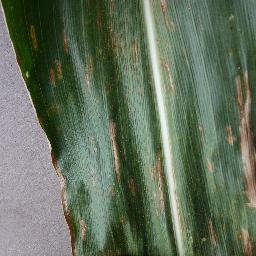Gray_Leaf_Spot: (225, 64, 256, 204), (38, 151, 80, 252), (103, 110, 141, 189), (150, 139, 182, 223), (102, 3, 133, 62), (151, 0, 184, 28), (229, 223, 256, 256), (76, 47, 95, 90), (43, 56, 69, 87), (202, 214, 225, 247), (157, 53, 174, 97), (24, 18, 44, 49), (60, 20, 78, 50), (75, 212, 92, 243), (19, 66, 36, 82), (116, 216, 132, 230)
